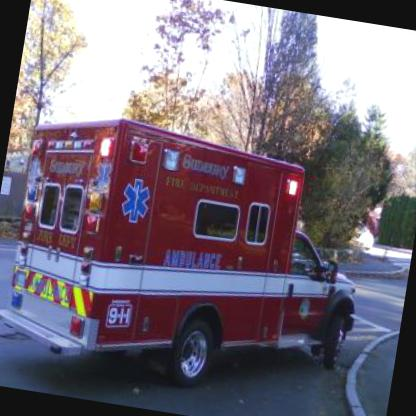truck: (0, 102, 381, 412)
